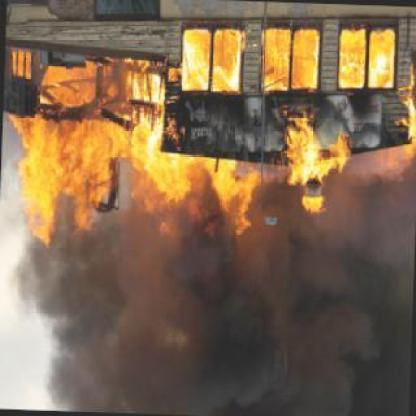Fire: (0, 0, 412, 247), (30, 253, 409, 416)
